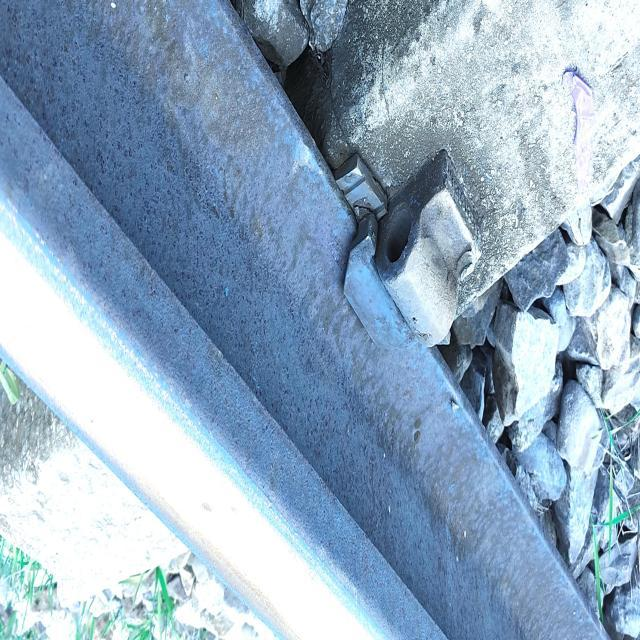Missing Fastener: (349, 150, 491, 379)
